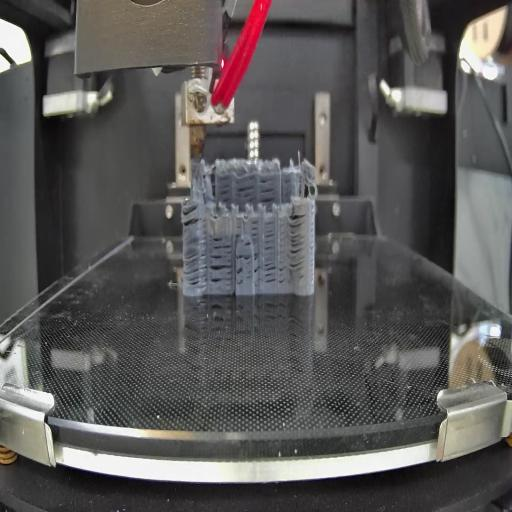cracks: (183, 234, 208, 290), (290, 212, 304, 272), (211, 255, 233, 290), (264, 254, 286, 285), (236, 175, 258, 203), (182, 200, 204, 225), (260, 172, 276, 204), (219, 173, 232, 203), (264, 222, 275, 250), (212, 234, 231, 250), (250, 219, 260, 239), (237, 266, 245, 290), (253, 252, 260, 278), (236, 216, 242, 240), (237, 252, 251, 261), (244, 240, 252, 247)
